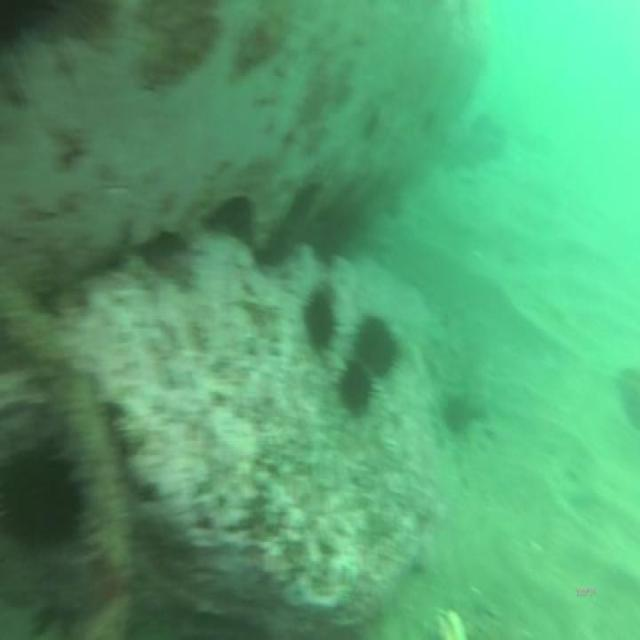echinus: (2, 446, 88, 554), (355, 310, 397, 384), (335, 354, 379, 417), (305, 284, 339, 360)
